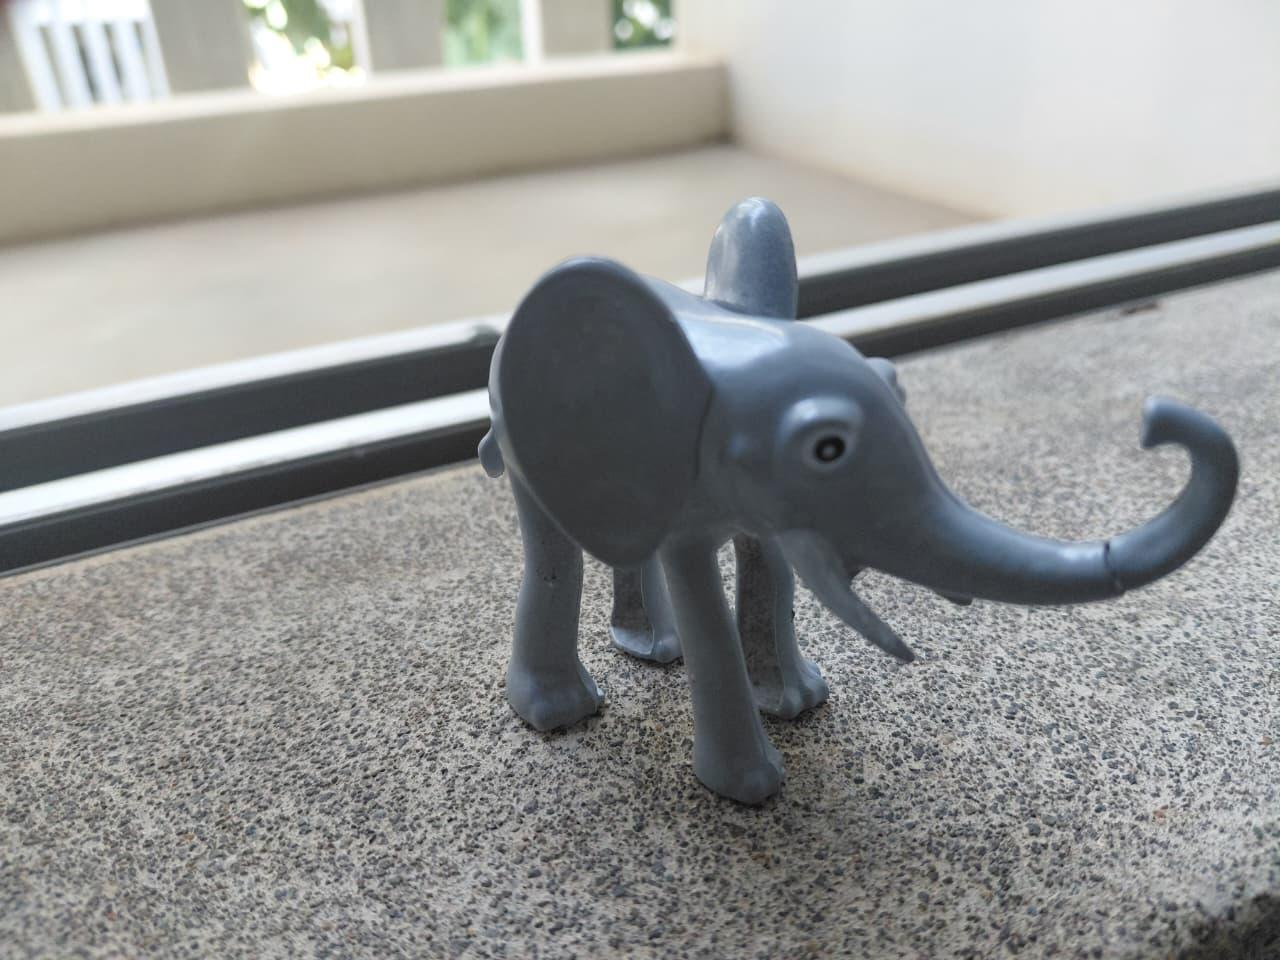elephant: (420, 144, 1280, 818)
